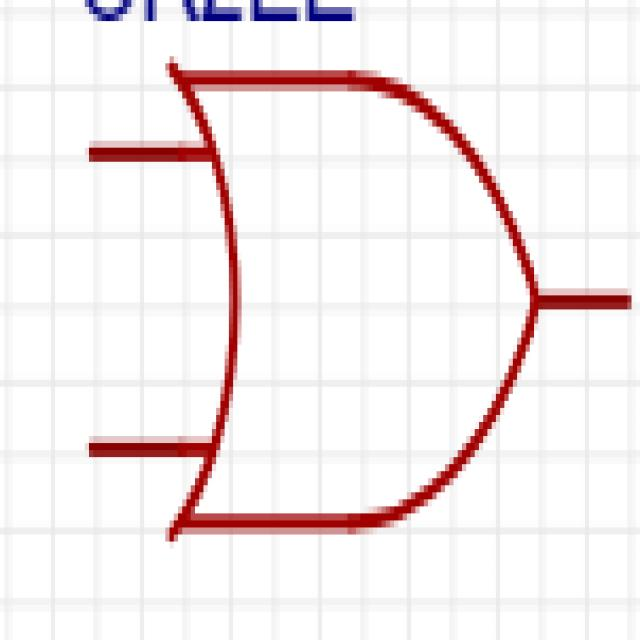or: (64, 48, 637, 590)
